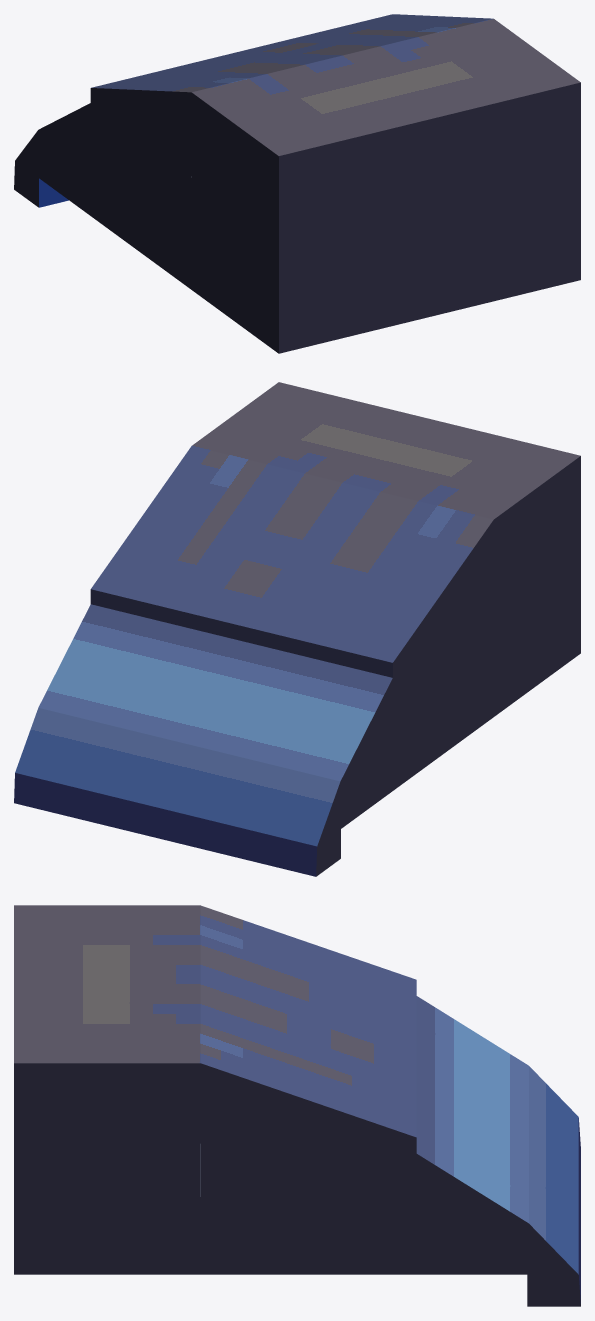
Rendered from df21_general_carport.obj.
3 views of the same model, one above another, from view 1: azimuth 30°, elevation 25°; view 2: azimuth 150°, elevation 25°; view 3: azimuth 270°, elevation 25° (orthographic). The views are drawn at different scales.
Visible parts, largest first — view 1: cuboid_selection_selection_selection_selection_selection_selecti; view 2: cuboid_selection_selection_selection_selection_selection_selecti; view 3: cuboid_selection_selection_selection_selection_selection_selecti.
Part boxes in pixels (x1,y1,x2,y2): cuboid_selection_selection_selection_selection_selection_selecti: (14, 14, 580, 353); cuboid_selection_selection_selection_selection_selection_selecti: (14, 382, 580, 876); cuboid_selection_selection_selection_selection_selection_selecti: (14, 905, 580, 1306).
Bounding box in the file's own units: 1 × 0.7188 × 1.52.
